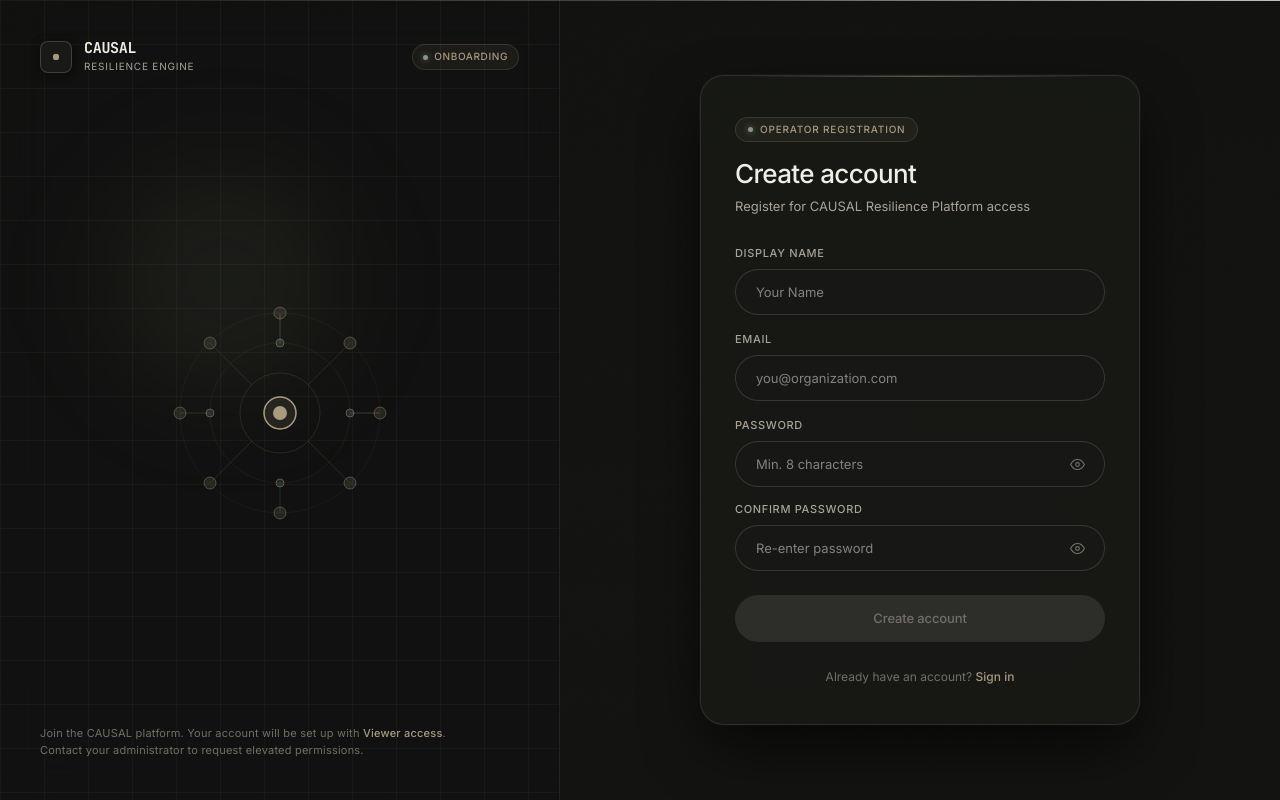
Test: Authentication: Sign Up Page (/signup) › shows an error and disables submission when passwords do not match
Step 1. Type "Dev Operator" into the field with id "signup-display-name" → (920, 292), box [735,269,1105,315]
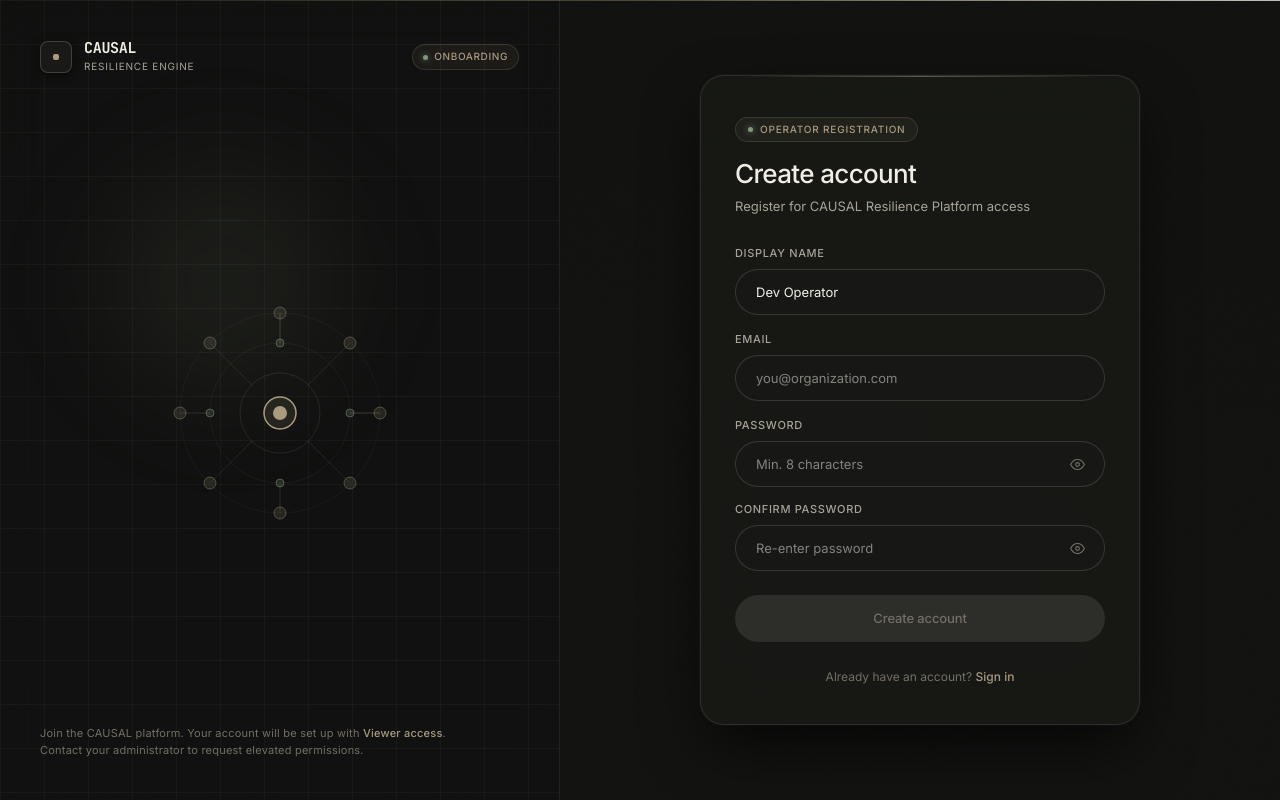
Step 2. Type "dev@causal.systems" into the field with id "signup-email" → (920, 378), box [735,355,1105,401]
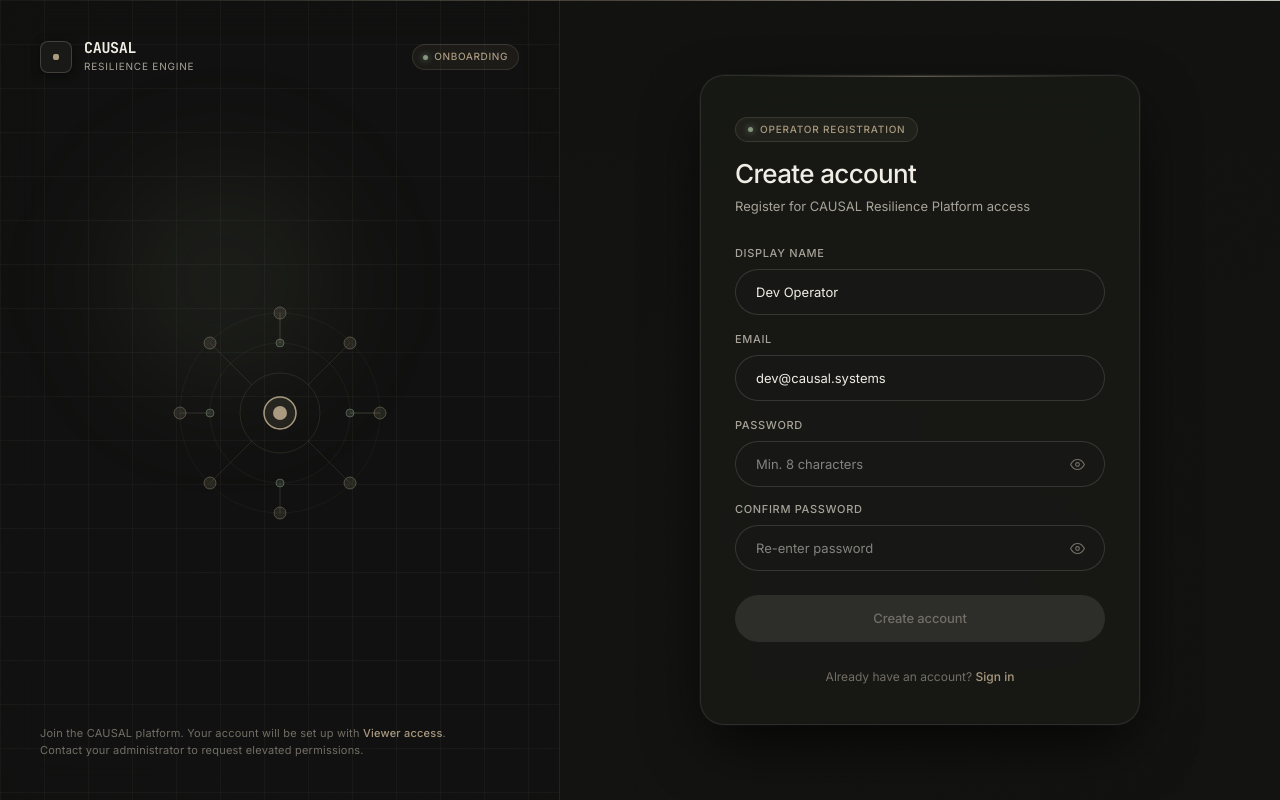
Step 3. Type "Password123!" into the password field with id "signup-password" → (920, 464), box [735,441,1105,487]
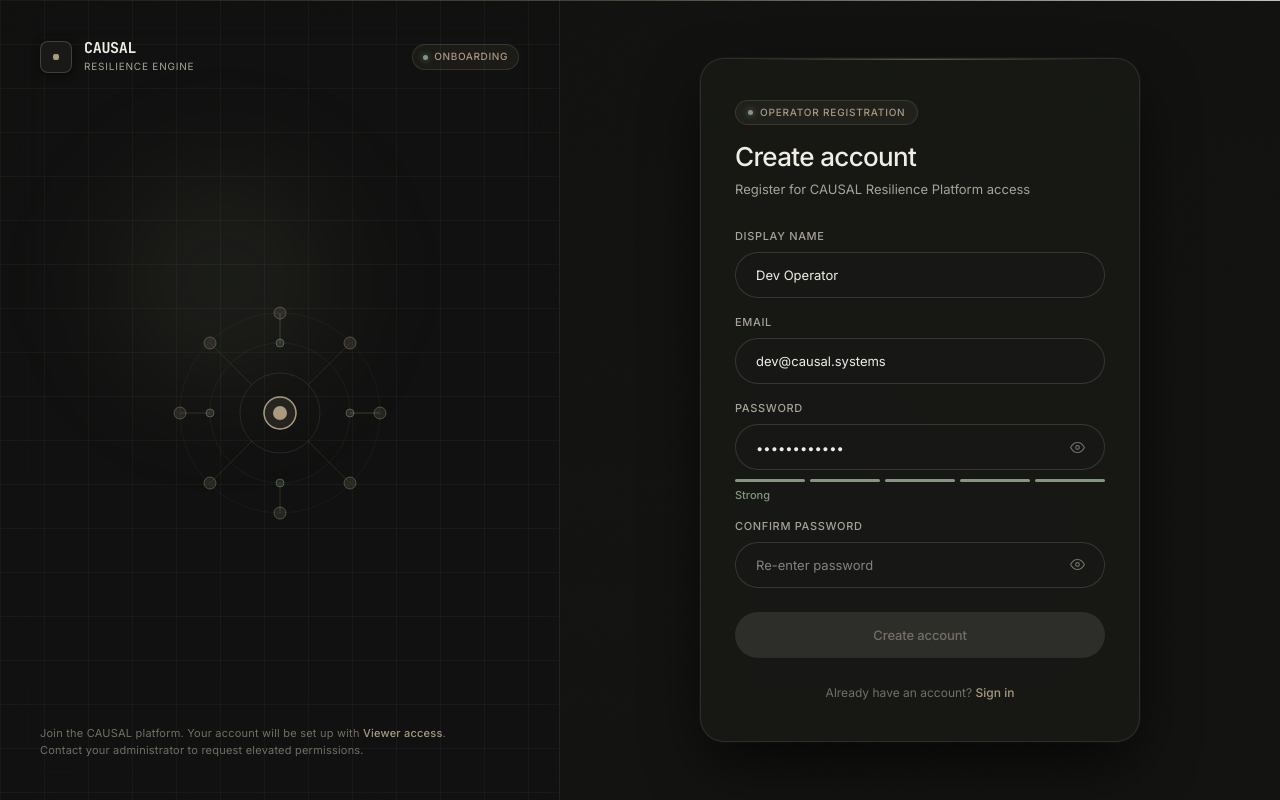
Step 4. Type "Mismatch999!" into the password field with id "signup-confirm-password" → (920, 565), box [735,542,1105,588]
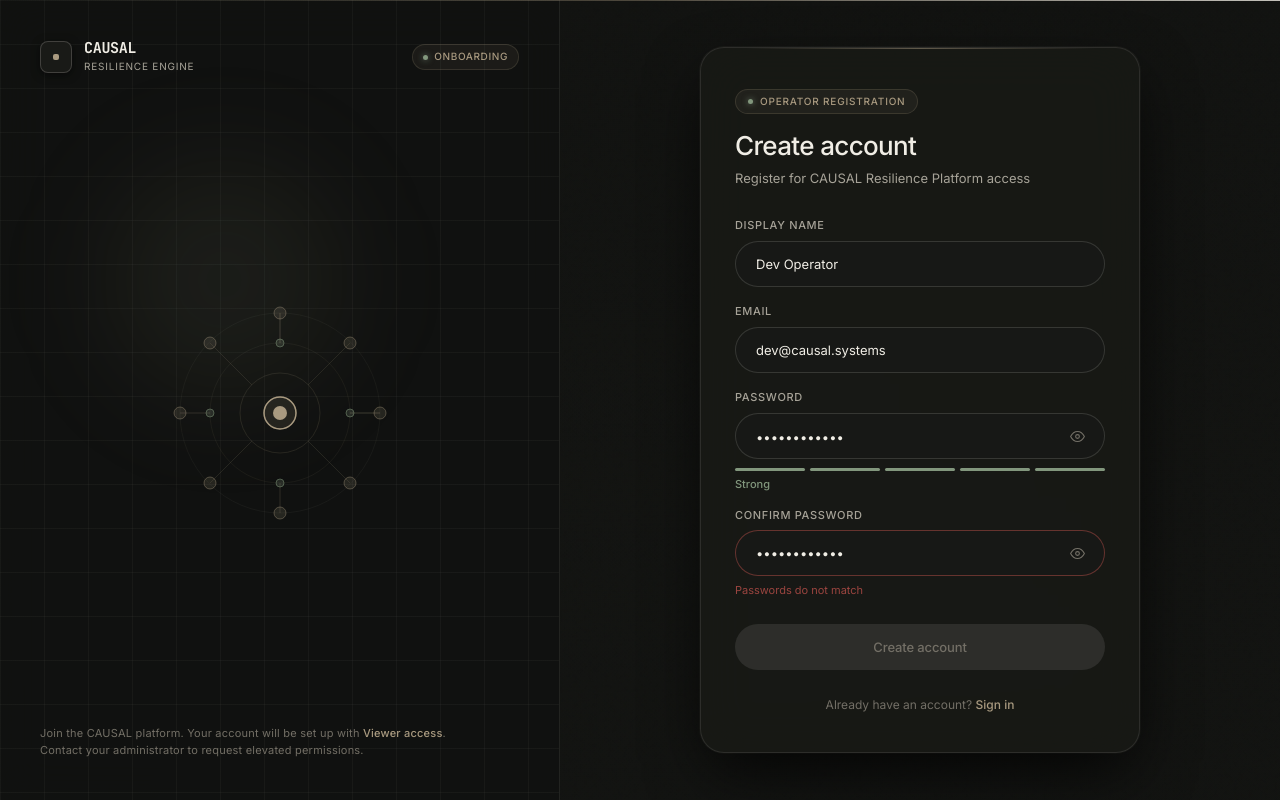
Expected: the button with id "signup-submit-btn" is disabled, [735,624,1105,670]
Now the text "Passwords do not match" is shown, box [735,584,863,598]
